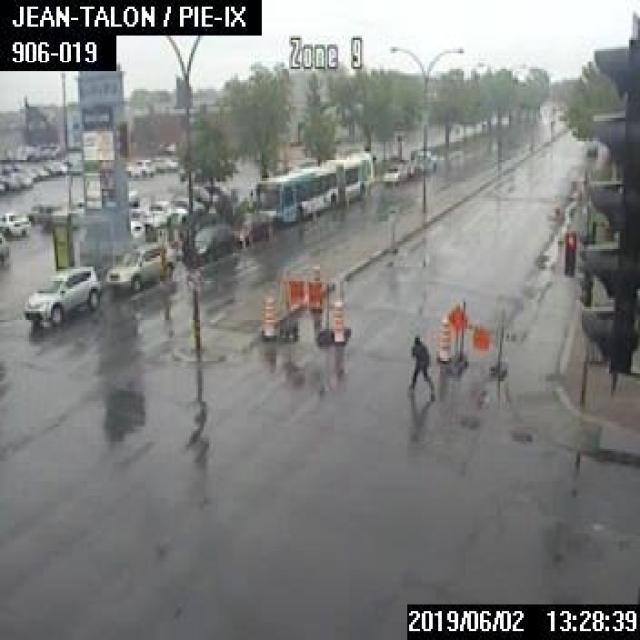bus: (246, 149, 372, 224)
construction: (448, 298, 506, 376), (276, 268, 333, 342), (259, 291, 274, 341), (435, 318, 449, 362), (331, 298, 344, 343)
pedestrian: (406, 331, 434, 400)
vehicle: (22, 264, 100, 320), (103, 240, 173, 289), (190, 223, 234, 262), (229, 211, 265, 246), (148, 197, 187, 220), (127, 207, 162, 230), (0, 212, 29, 237), (27, 202, 59, 224), (172, 196, 202, 212), (380, 163, 404, 182), (414, 150, 436, 170), (192, 185, 214, 203), (153, 156, 177, 172), (134, 158, 152, 175), (128, 216, 143, 236), (210, 183, 231, 197), (403, 158, 421, 174), (0, 231, 7, 264)
